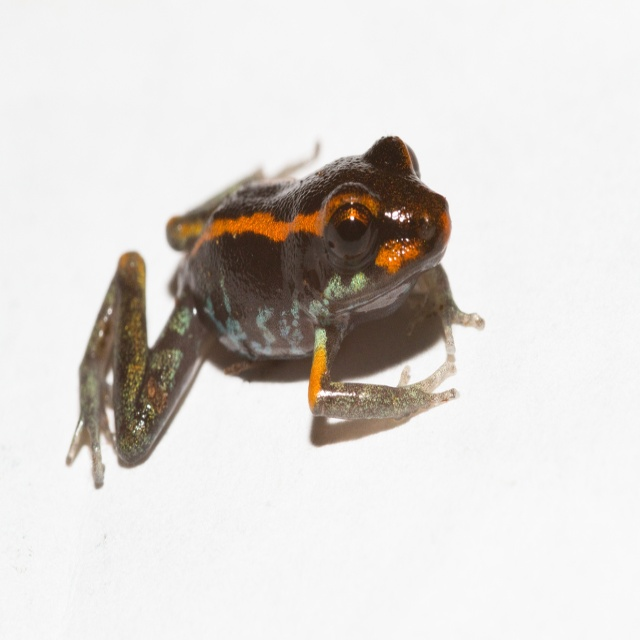Frog: (64, 135, 484, 490)
